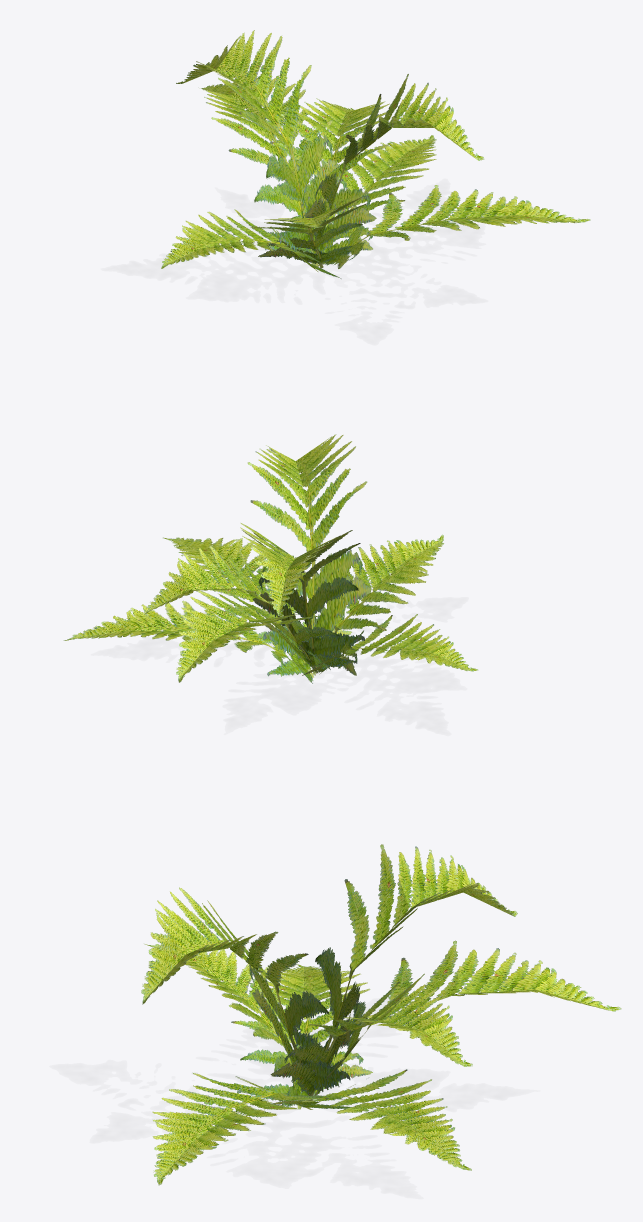
The model's file is Fern.obj.
The picture shows the model from 3 angles, top to bottom: view 1: azimuth 30°, elevation 25°; view 2: azimuth 150°, elevation 25°; view 3: azimuth 270°, elevation 25°; orthographic projection. The views are drawn at different scales.
Visible parts, largest first — view 1: Fern; view 2: Fern; view 3: Fern.
Part boxes in pixels (x1,y1,x2,y2): Fern: (161, 30, 590, 278); Fern: (63, 434, 478, 683); Fern: (141, 844, 621, 1185).
Bounding box in the file's own units: 13.32 × 5.88 × 13.58.
Materials: 2 (2 with a texture image).
